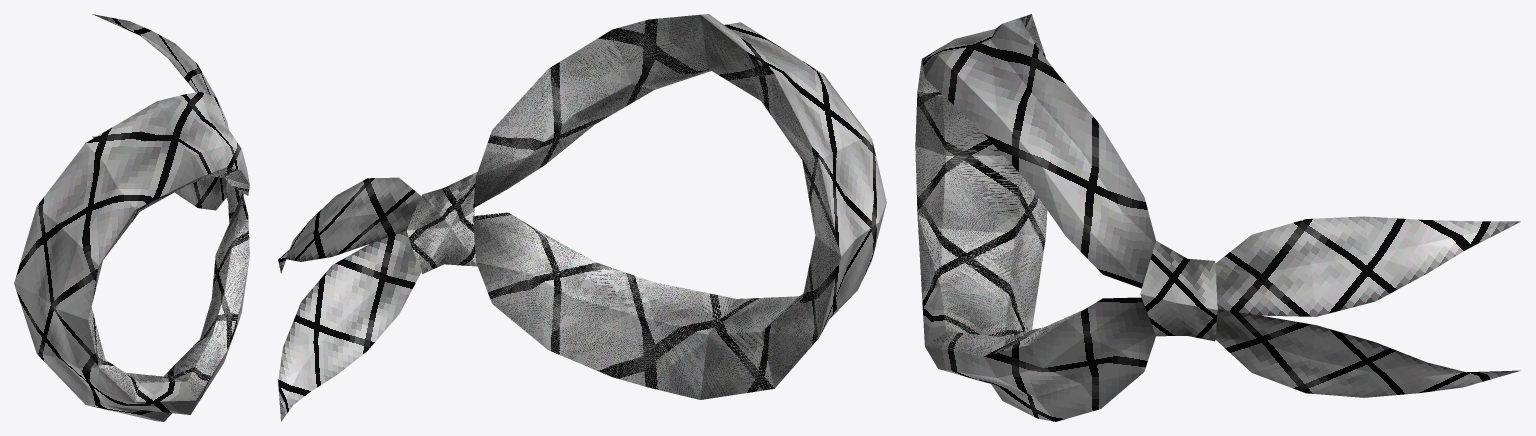
Rendered from options455.obj.
3 renders of one model, left to right at view 1: azimuth 30°, elevation 25°; view 2: azimuth 150°, elevation 25°; view 3: azimuth 270°, elevation 25°, orthographic. The views are drawn at different scales.
Parts seen in each view (by area): view 1: options455; view 2: options455; view 3: options455.
Part boxes in pixels (box(x1,y1,x2,y2)): options455: box(14, 14, 249, 421); options455: box(278, 14, 886, 421); options455: box(915, 14, 1520, 421).
Bounding box in the file's own units: 0.3829 × 0.3715 × 0.5256.
2 materials, 2 textured.
